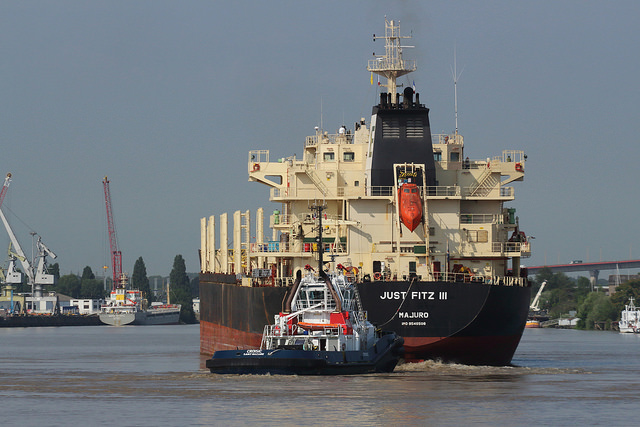bulk carrier: (199, 18, 528, 368), (101, 274, 181, 326)
tug_boat: (207, 251, 403, 377)
